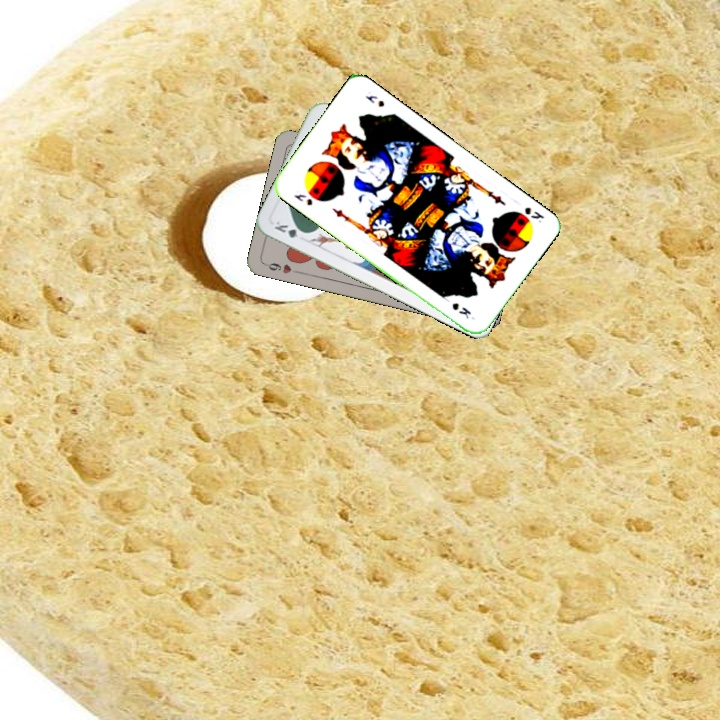GK: (270, 216, 310, 241)
H9: (261, 259, 301, 276)
SK: (520, 203, 547, 225), (290, 190, 315, 208)
